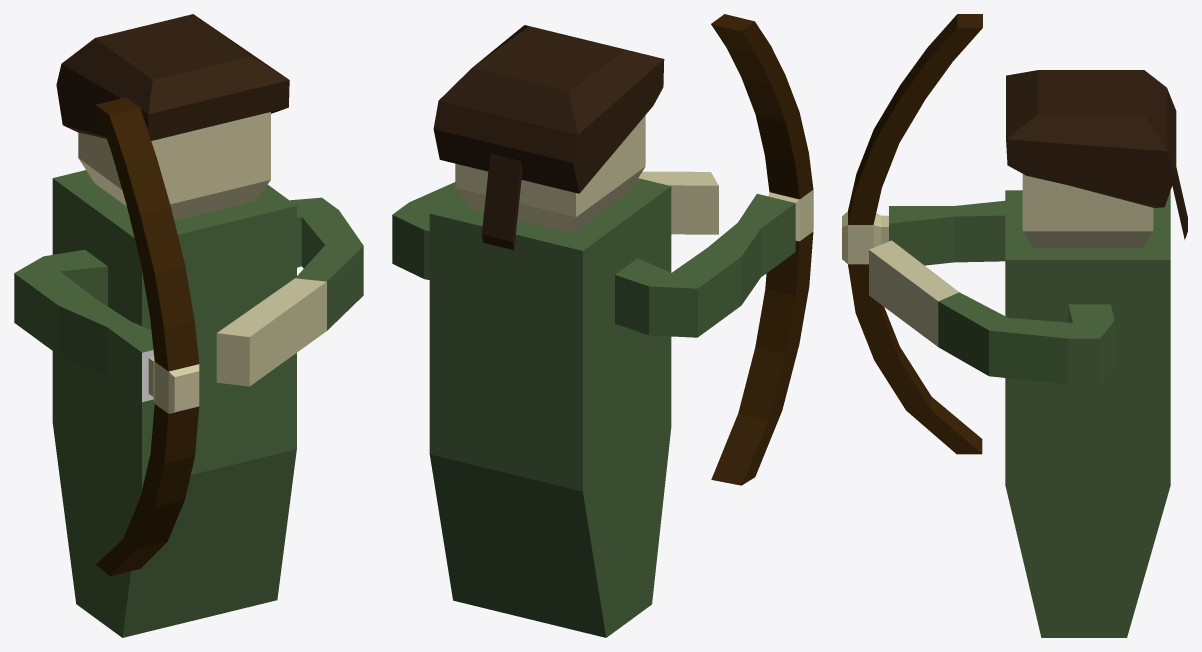
File: Archer.fbx
3 views of the same model, side by side, from view 1: azimuth 30°, elevation 25°; view 2: azimuth 150°, elevation 25°; view 3: azimuth 270°, elevation 25° (orthographic). The views are drawn at different scales.
Visible parts, largest first — view 1: Archer; view 2: Archer; view 3: Archer.
Boxes of the visible parts, x1,y1,x2,y2 form: Archer: (14, 14, 363, 637); Archer: (392, 14, 813, 637); Archer: (842, 14, 1187, 637).
Size of the model in its own units: 218 by 386 by 229.
